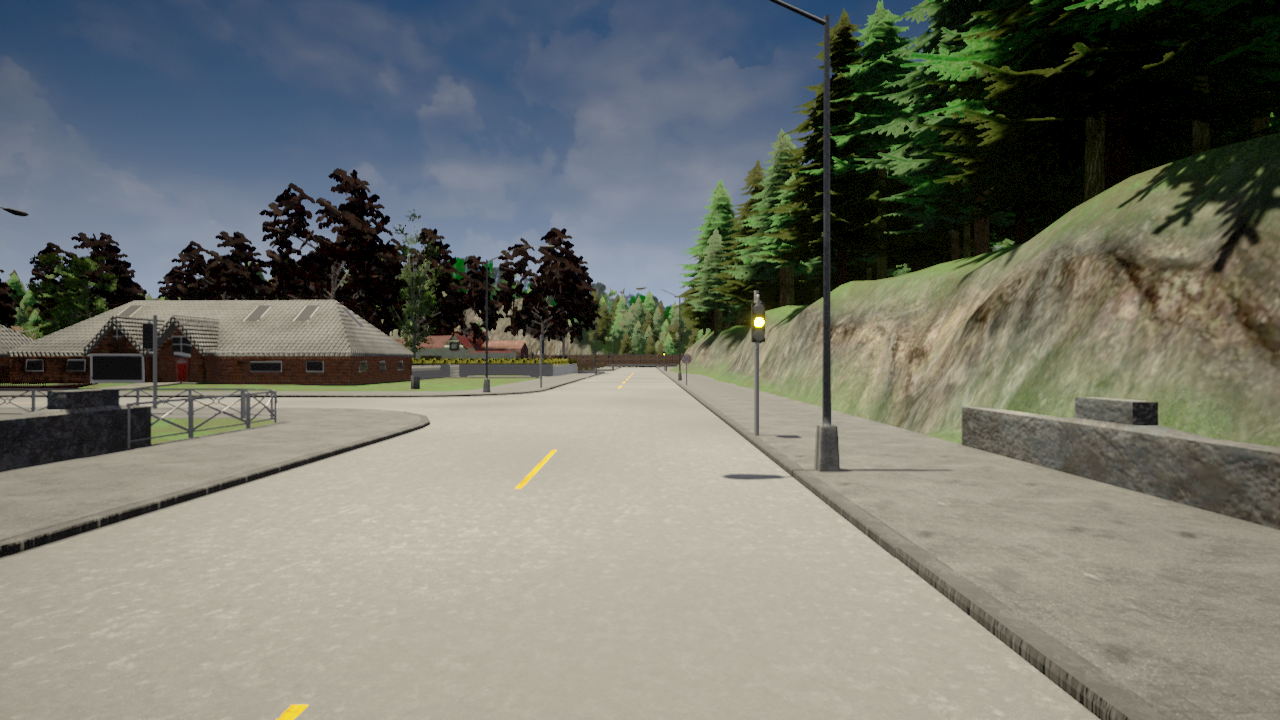yellow: (750, 302, 767, 344)
